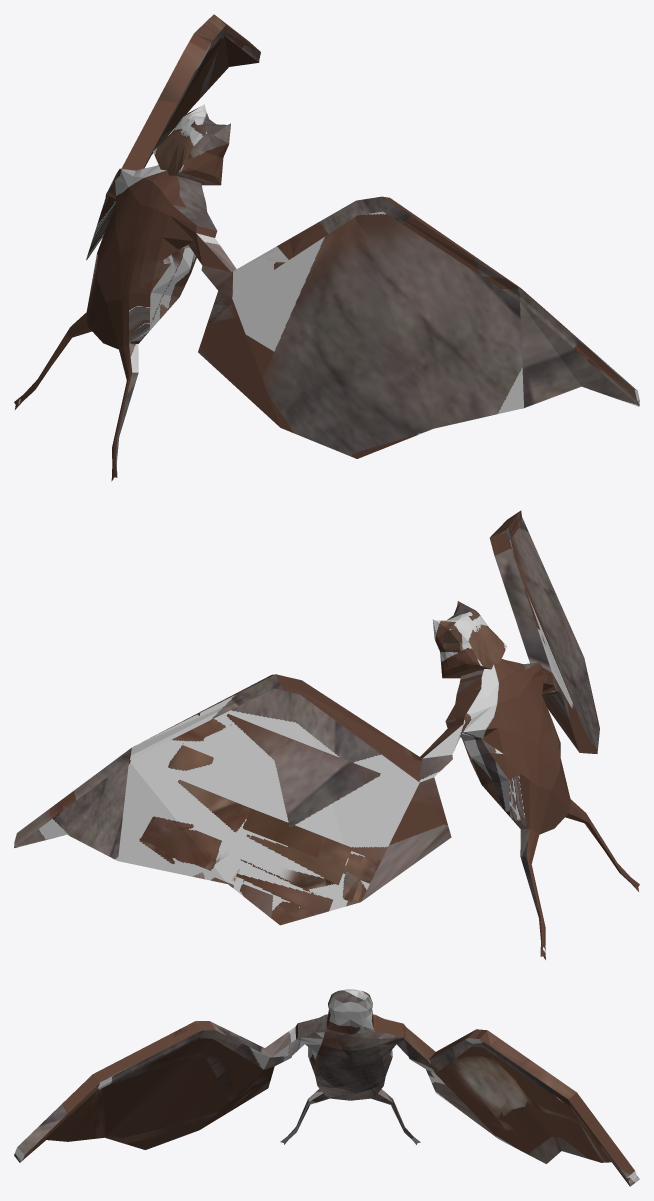
The model's file is Enemigo119.obj.
3 views of the same model, one above another, from view 1: azimuth 30°, elevation 25°; view 2: azimuth 150°, elevation 25°; view 3: azimuth 270°, elevation 25° (orthographic). The views are drawn at different scales.
Visible parts, largest first — view 1: Plano; view 2: Plano; view 3: Plano.
Boxes of the visible parts, x1,y1,x2,y2 form: Plano: (14, 14, 639, 481); Plano: (14, 510, 639, 959); Plano: (14, 989, 639, 1186).
Size of the model in its own units: 0.9505 by 0.6662 by 1.89.
Materials: 1 (1 with a texture image).
